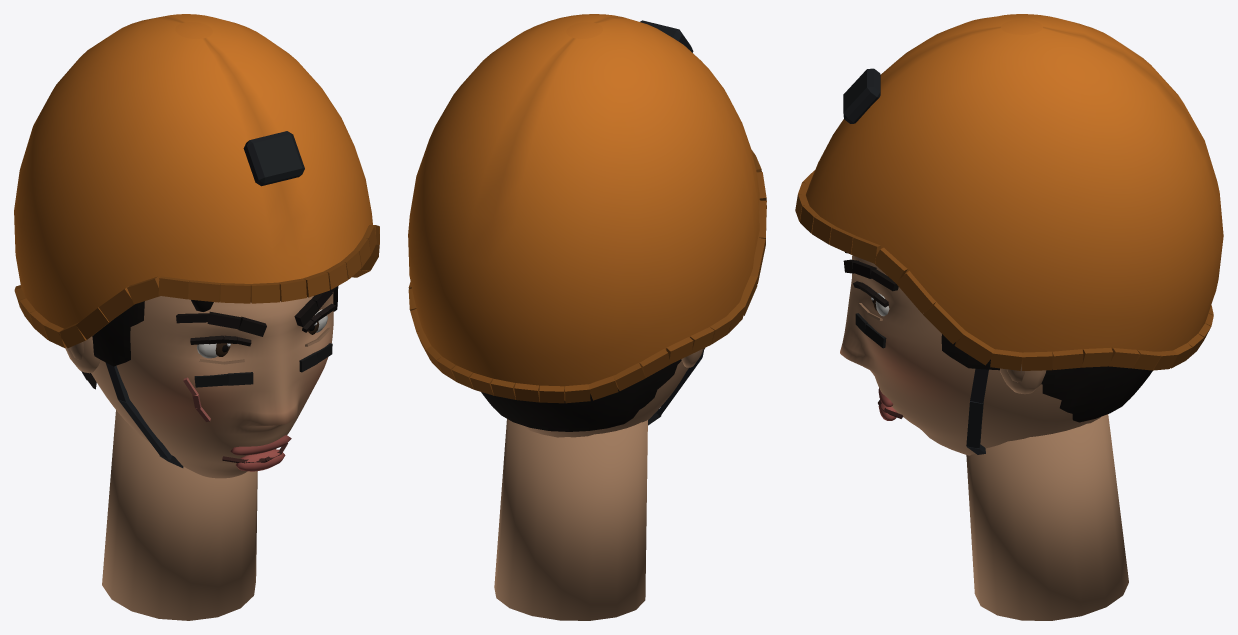
Rendered from cabeza-shotgun-f.glb.
3 renders of one model, left to right at view 1: azimuth 30°, elevation 25°; view 2: azimuth 150°, elevation 25°; view 3: azimuth 270°, elevation 25°, orthographic.
Parts seen in each view (by area): view 1: h_Head; view 2: h_Head; view 3: h_Head.
Part boxes in pixels (box(x1,y1,x2,y2)): h_Head: box(14, 14, 379, 620); h_Head: box(408, 14, 766, 620); h_Head: box(795, 14, 1223, 620).
Size of the model in its own units: 0.1775 by 0.3211 by 0.2195.
